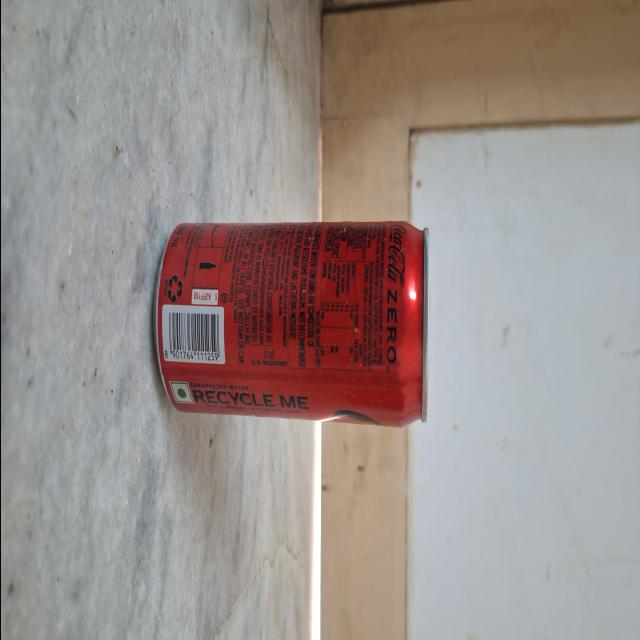Coca Cola Zero: (155, 208, 427, 421)
